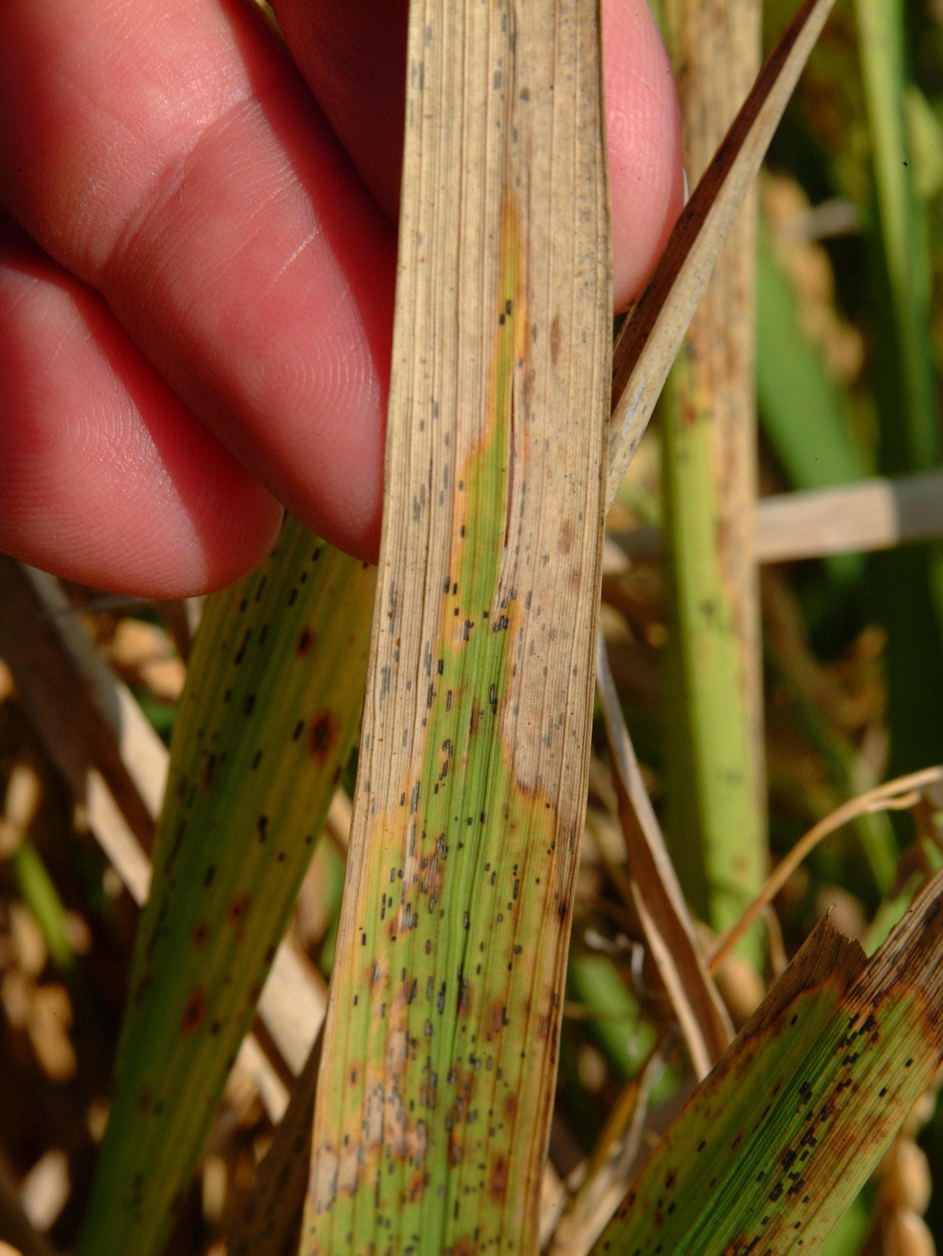Leaf Smut: (290, 0, 635, 1256), (378, 725, 518, 1204), (724, 1006, 893, 1239), (175, 582, 328, 818)
